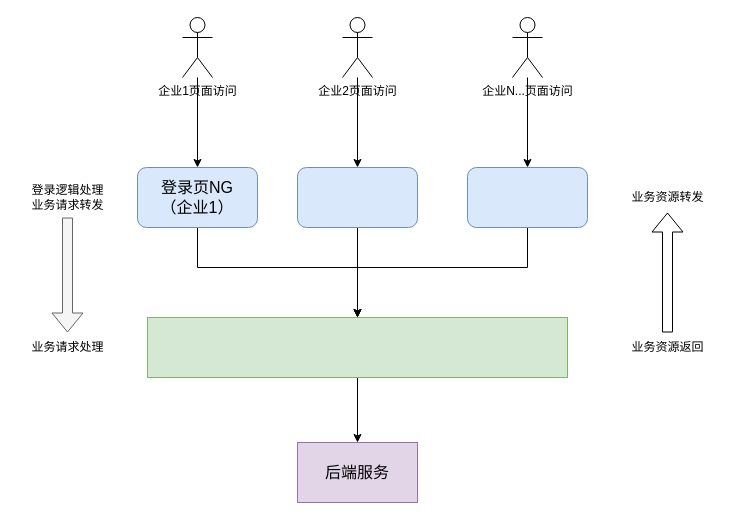
Image size: 734x520. Some labels were removed from this diagram. The box of each missing label's shape, as (x1, y1, x2, y2) in pixels:
企业端NG: (146, 316, 568, 378)
登录页NG （企业2）: (296, 166, 418, 228)
登录页NG （企业N...）: (466, 166, 588, 228)
